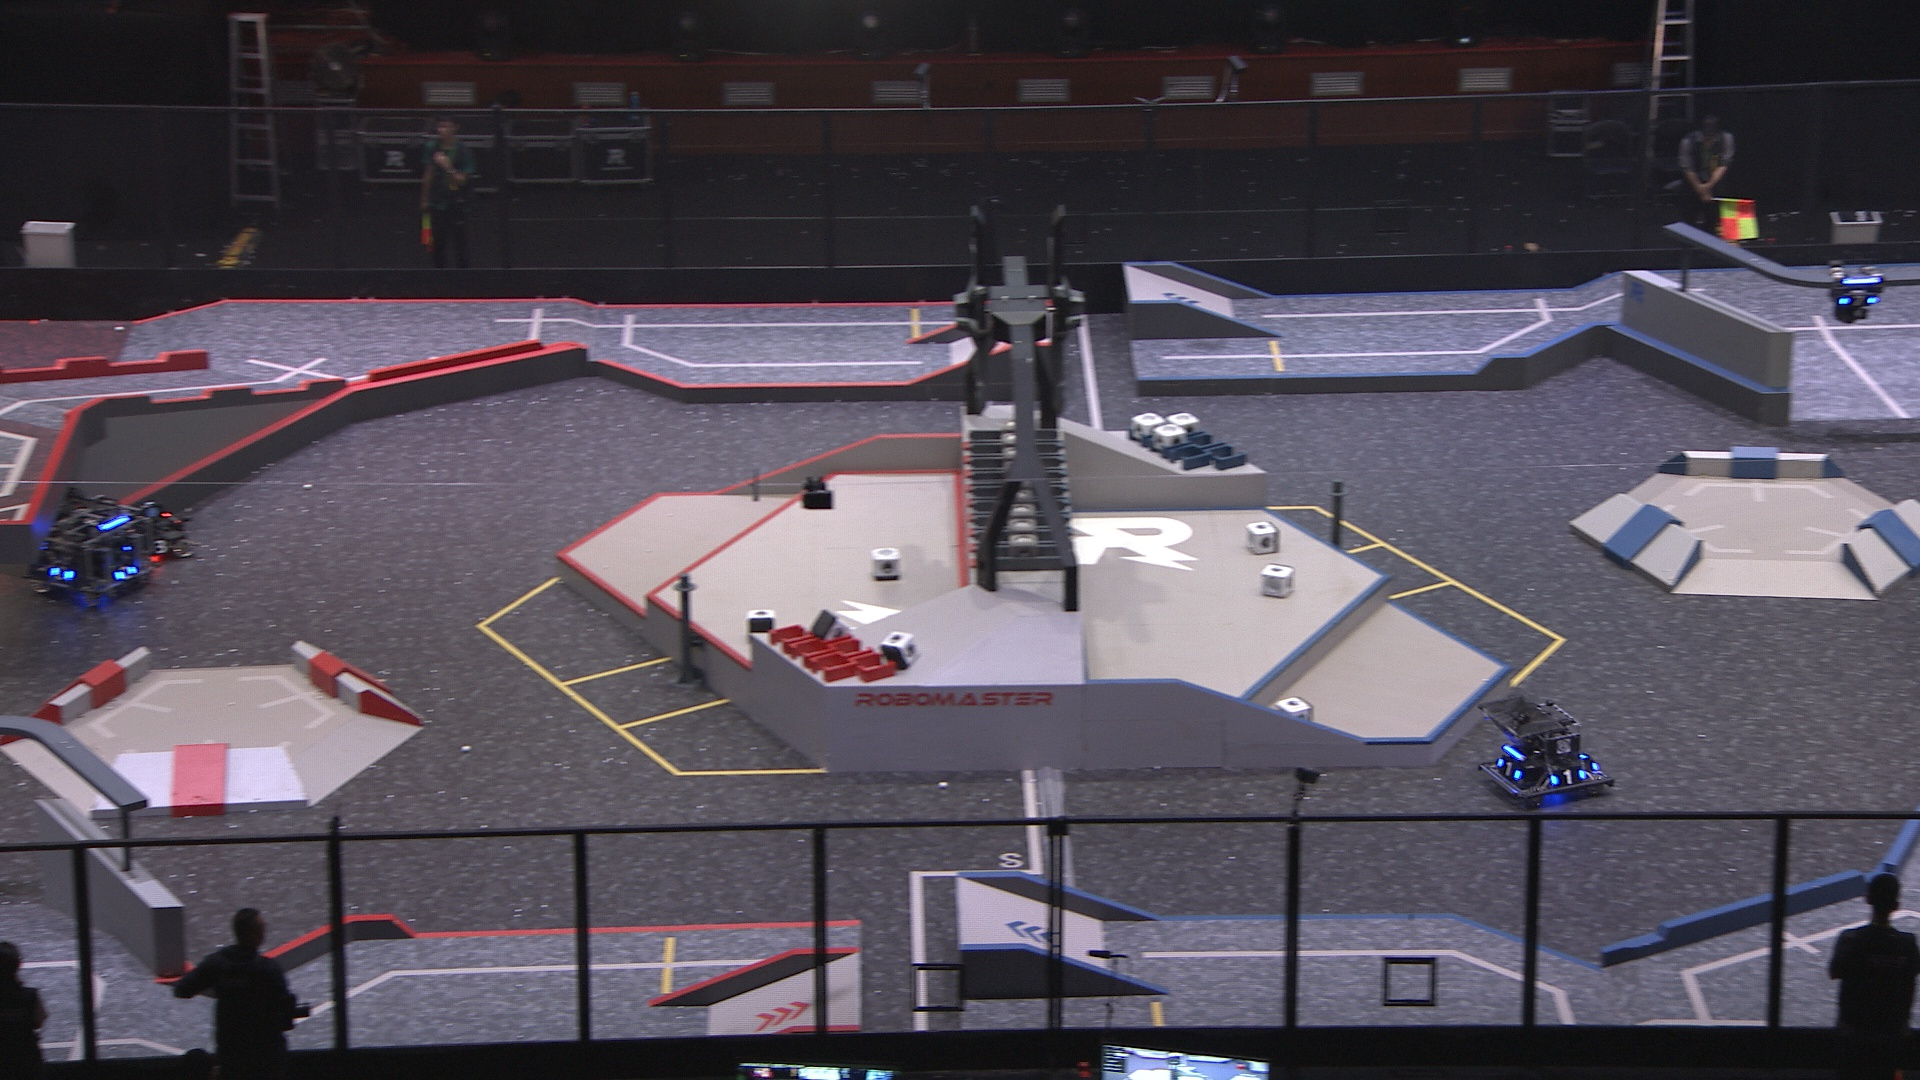armor: (1551, 766, 1586, 789), (1495, 754, 1524, 781), (1841, 294, 1879, 311), (46, 566, 73, 584), (113, 564, 136, 583), (150, 538, 171, 555)
car: (7, 487, 149, 609), (1480, 694, 1611, 804), (109, 491, 200, 570)
watcher: (1826, 262, 1888, 323)
